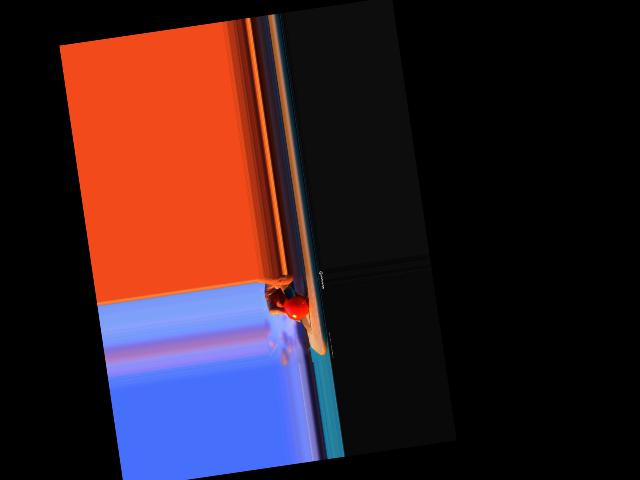tomato: (282, 293, 310, 322)
